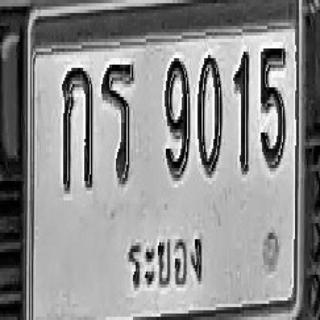A01: (61, 63, 93, 189)
A35: (101, 60, 134, 183)
N00: (197, 52, 222, 175)
N01: (233, 47, 249, 173)
N05: (260, 44, 285, 166)
N09: (164, 53, 190, 176)
P53: (127, 227, 206, 299)
